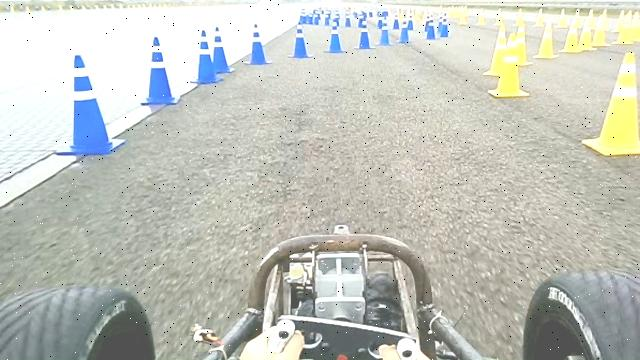blue cone: (54, 53, 126, 156), (140, 36, 180, 105), (189, 29, 223, 84), (243, 23, 273, 65), (211, 26, 234, 73), (288, 24, 313, 58), (324, 22, 346, 54), (354, 18, 374, 50), (376, 17, 393, 46), (397, 16, 412, 44), (440, 11, 451, 37), (424, 14, 434, 40)
yellow cone: (581, 51, 640, 157), (488, 31, 528, 98), (483, 24, 512, 78), (508, 19, 533, 68), (533, 19, 558, 59)
